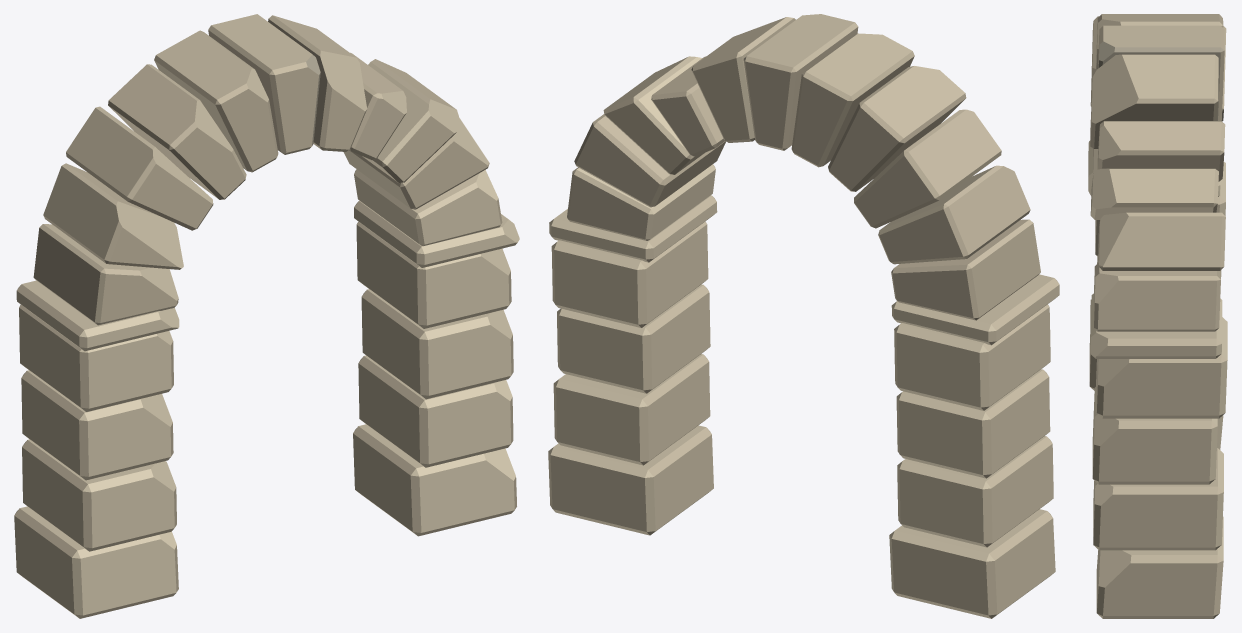
The model's file is Ruin_Arch_A_candidate-initial.glb.
The picture shows the model from 3 angles, left to right: view 1: azimuth 30°, elevation 25°; view 2: azimuth 150°, elevation 25°; view 3: azimuth 270°, elevation 25°; orthographic projection. The views are drawn at different scales.
Visible parts, largest first — view 1: Ruin_Arch_A_Detail_v1.001; view 2: Ruin_Arch_A_Detail_v1.001; view 3: Ruin_Arch_A_Detail_v1.001.
Part boxes in pixels (x1=…): Ruin_Arch_A_Detail_v1.001: x1=14, y1=14, x2=519, y2=618; Ruin_Arch_A_Detail_v1.001: x1=548, y1=14, x2=1059, y2=618; Ruin_Arch_A_Detail_v1.001: x1=1088, y1=14, x2=1227, y2=618.
Bounding box in the file's own units: 8.77 × 9.5 × 2.49.
